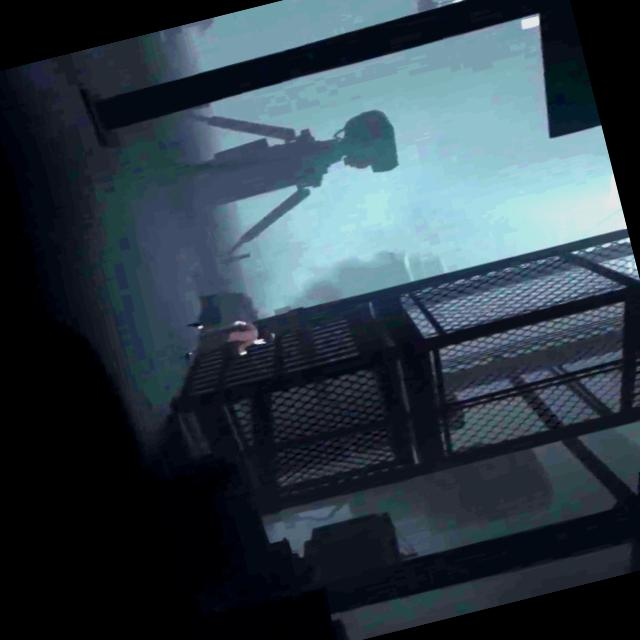boy: (180, 304, 278, 368)
zombie: (158, 26, 188, 66)
